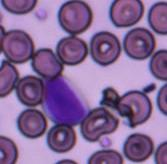L: (41, 75, 91, 125)
